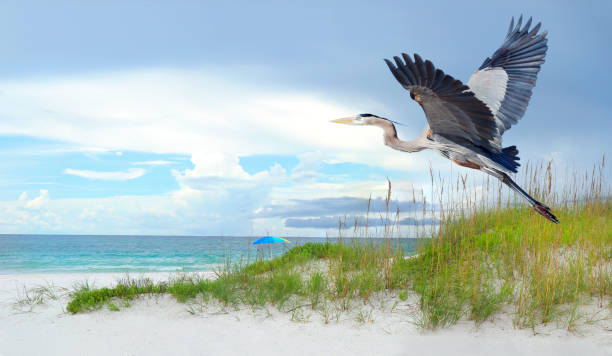Bird: (326, 11, 559, 227)
